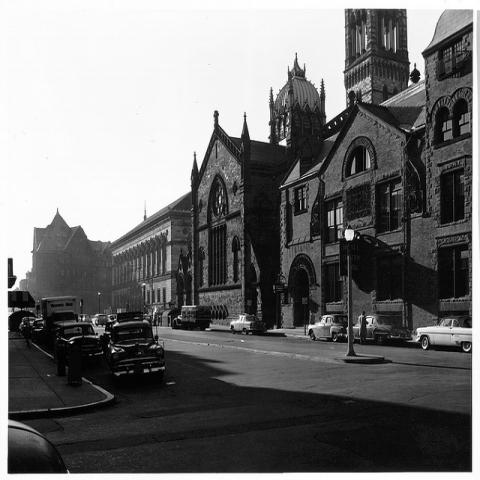car: (107, 315, 168, 380), (417, 314, 472, 350), (346, 314, 414, 342), (56, 322, 106, 360), (308, 315, 348, 342), (230, 314, 267, 334), (30, 318, 45, 346), (19, 317, 36, 330), (78, 313, 93, 325), (95, 314, 108, 324), (108, 315, 116, 321)
truck: (40, 295, 79, 347), (172, 306, 212, 330)
